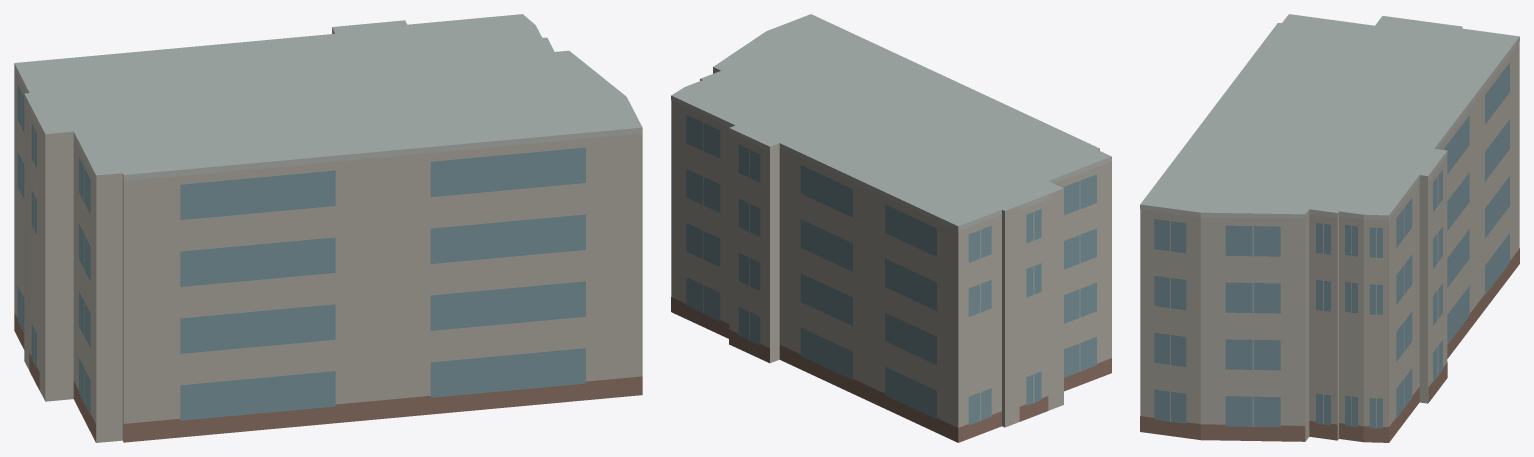
The model's file is survey-upis-32606711.glb.
The picture shows the model from 3 angles, left to right: view 1: azimuth 30°, elevation 25°; view 2: azimuth 150°, elevation 25°; view 3: azimuth 270°, elevation 25°; orthographic projection. The views are drawn at different scales.
Visible parts, largest first — view 1: survey-upis-32606711.tmp; view 2: survey-upis-32606711.tmp; view 3: survey-upis-32606711.tmp.
Part boxes in pixels (<box>): survey-upis-32606711.tmp: <box>14,14,642,442</box>; survey-upis-32606711.tmp: <box>671,14,1111,442</box>; survey-upis-32606711.tmp: <box>1140,14,1519,442</box>.
Size of the model in its own units: 21.09 by 11.1 by 16.8.
